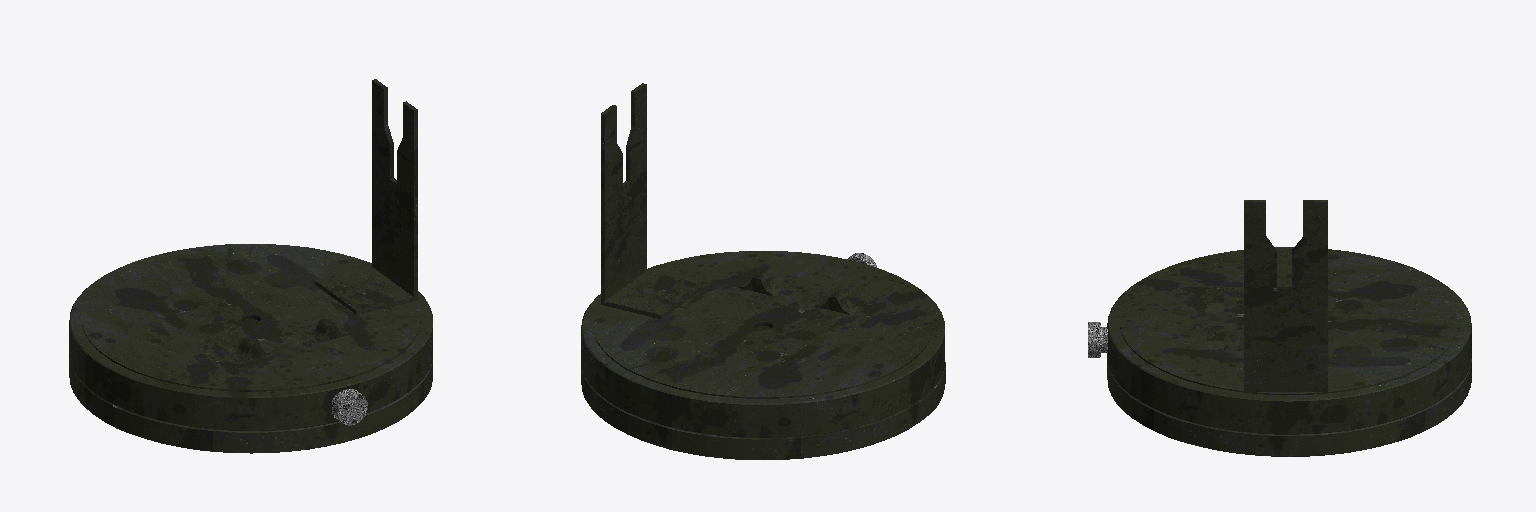
3 views of the same model, side by side, from view 1: azimuth 30°, elevation 25°; view 2: azimuth 150°, elevation 25°; view 3: azimuth 270°, elevation 25° (orthographic).
Parts seen in each view (by area): view 1: Cylinder002; view 2: Cylinder002; view 3: Cylinder002.
Part boxes in pixels (left/top/right/bottom): Cylinder002: left=69, top=79, right=432, bottom=453; Cylinder002: left=581, top=83, right=945, bottom=459; Cylinder002: left=1088, top=200, right=1471, bottom=456.
Size of the model in its own units: 83.14 by 62.76 by 87.67.
Materials: 3 (3 with a texture image).